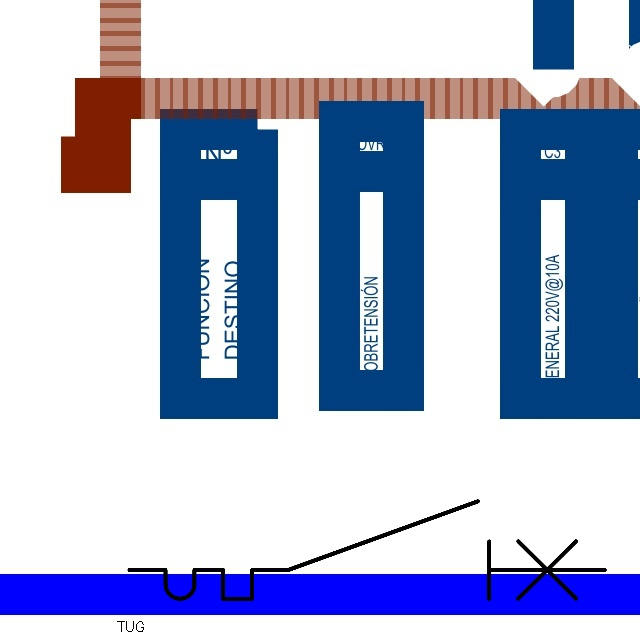interruptor_termomagnetico: (117, 489, 616, 611)
